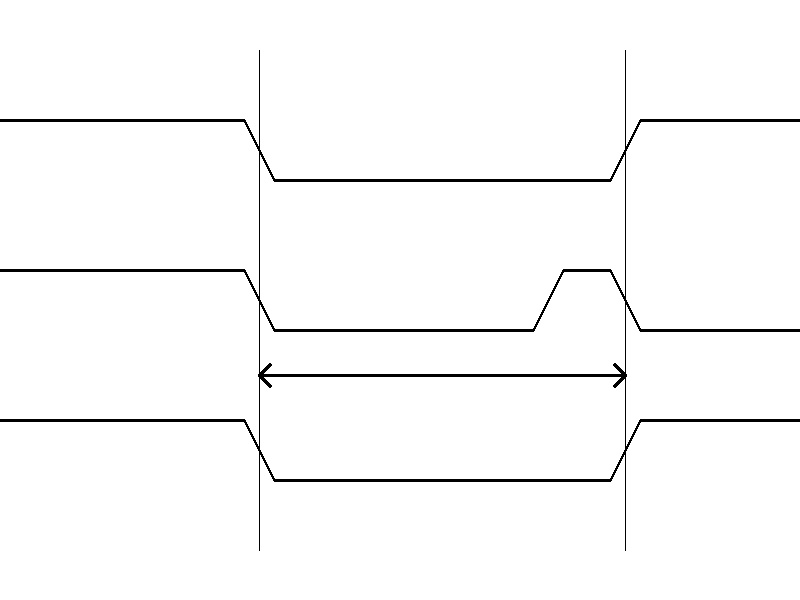double_arrow: (259, 360, 625, 390)
